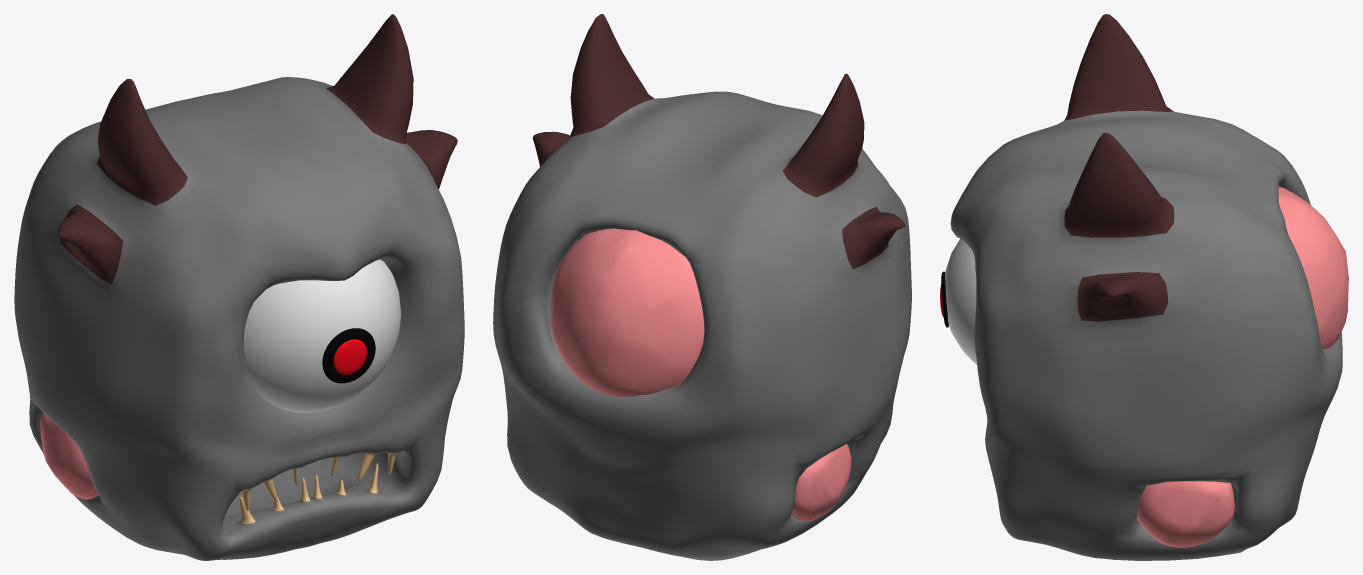
File: Beholder7.fbx
The picture shows the model from 3 angles, left to right: view 1: azimuth 30°, elevation 25°; view 2: azimuth 150°, elevation 25°; view 3: azimuth 270°, elevation 25°; orthographic projection. The views are drawn at different scales.
Visible parts, largest first — view 1: body, eye, Sidepimple, Torus.002, Sphere; view 2: body, Pimple, Sidepimple; view 3: body, Pimple, Sidepimple, eye.
Part boxes in pixels (x1=…): body: x1=14, y1=14, x2=464, y2=560; eye: x1=243, y1=259, x2=401, y2=412; Sidepimple: x1=40, y1=413, x2=98, y2=499; Torus.002: x1=322, y1=328, x2=375, y2=383; Sphere: x1=333, y1=339, x2=367, y2=374; body: x1=493, y1=14, x2=911, y2=560; Pimple: x1=550, y1=228, x2=704, y2=396; Sidepimple: x1=791, y1=444, x2=851, y2=521; body: x1=950, y1=14, x2=1342, y2=560; Pimple: x1=1278, y1=187, x2=1348, y2=349; Sidepimple: x1=1137, y1=481, x2=1234, y2=547; eye: x1=945, y1=239, x2=976, y2=364.
Bounding box in the file's own units: 1106 × 1299 × 1065.
